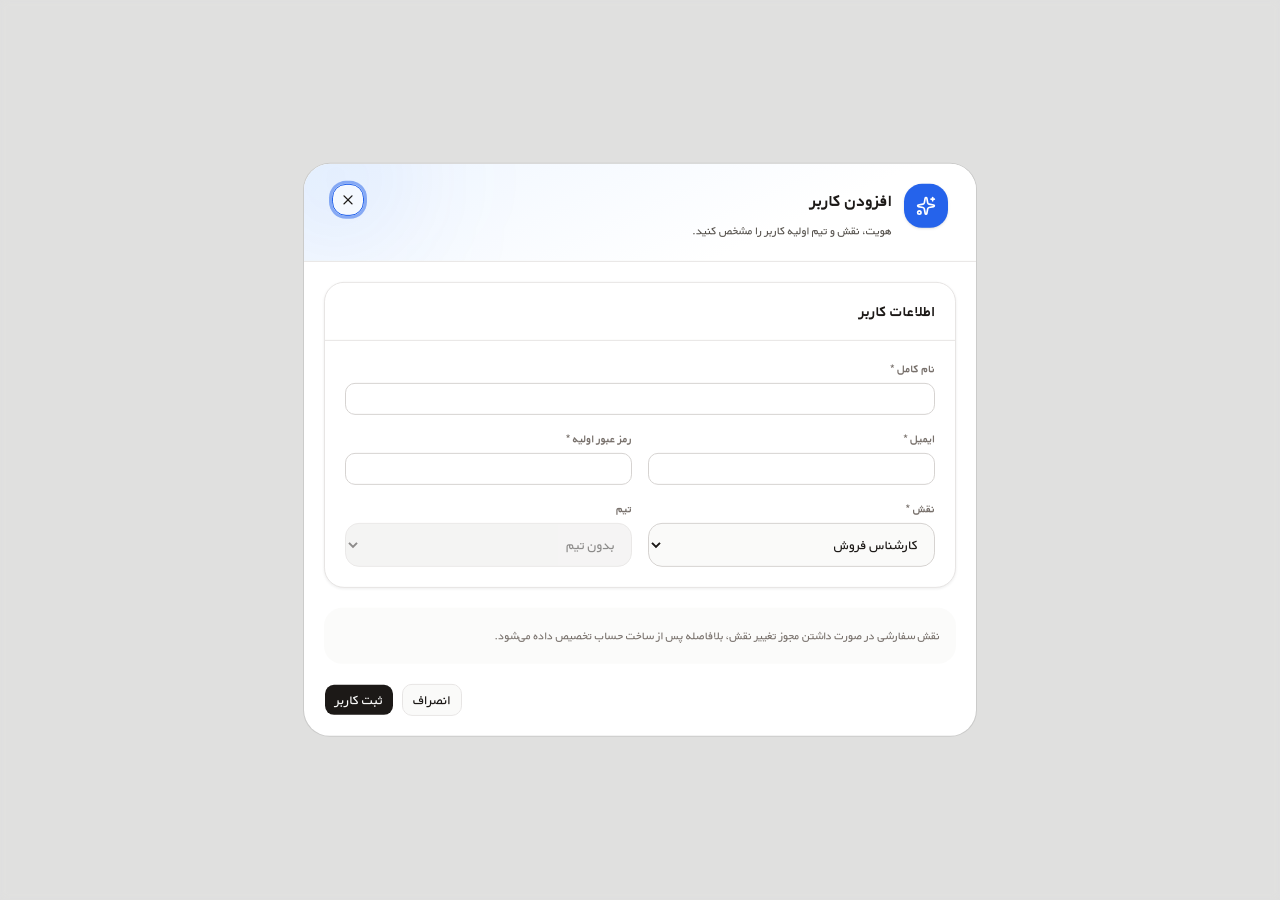
it: validates with Zod before submit and displays server email errors through RHF
This screenshot has width=1280, height=900.
Click the button "ثبت کاربر" at (359, 700), box [324,684,394,716]
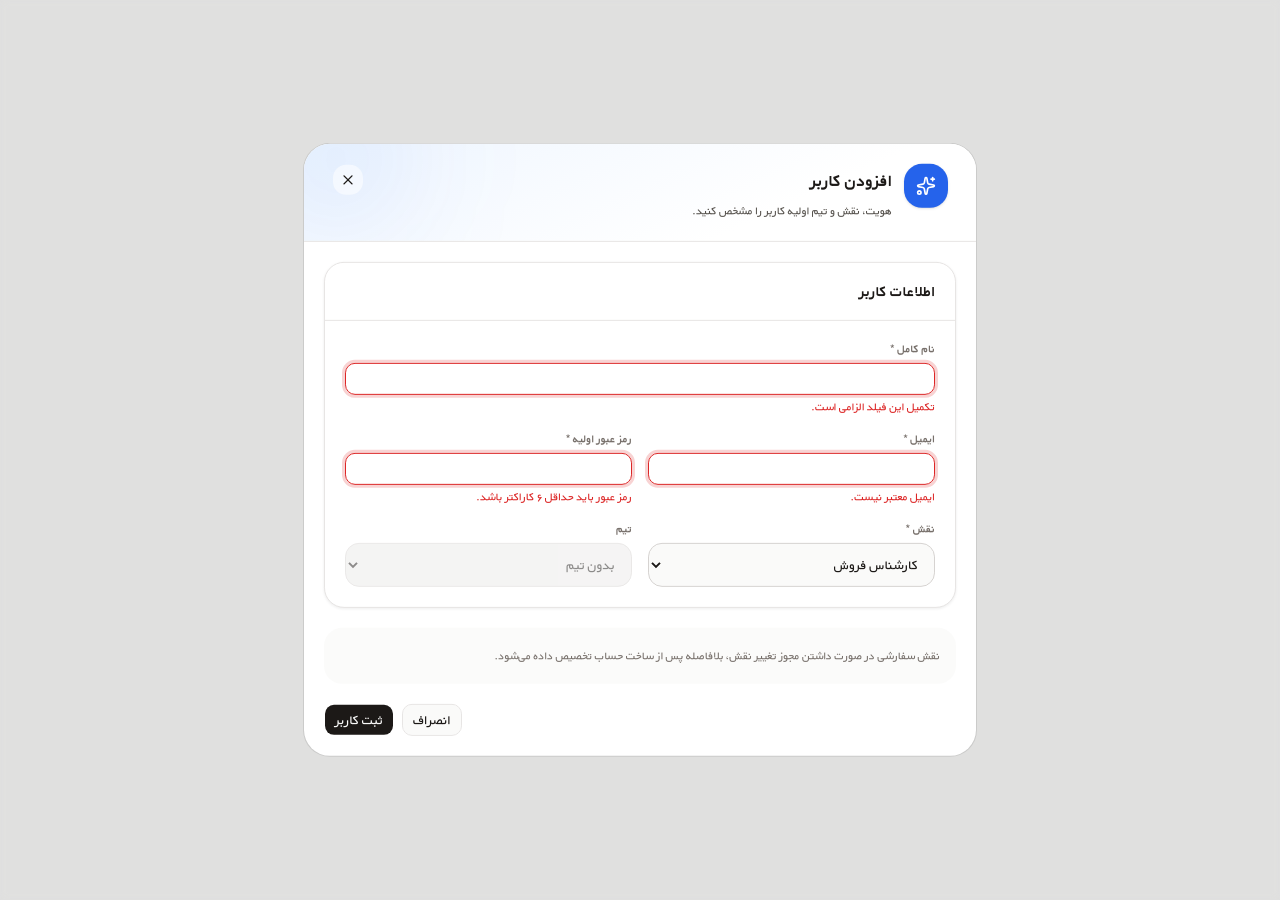
Now the text "تکمیل این فیلد الزامی است." is shown, box [811,398,935,415]
Type "کاربر آزمایشی" into the field labelled "نام کامل *" at (640, 379), box [345,363,935,395]
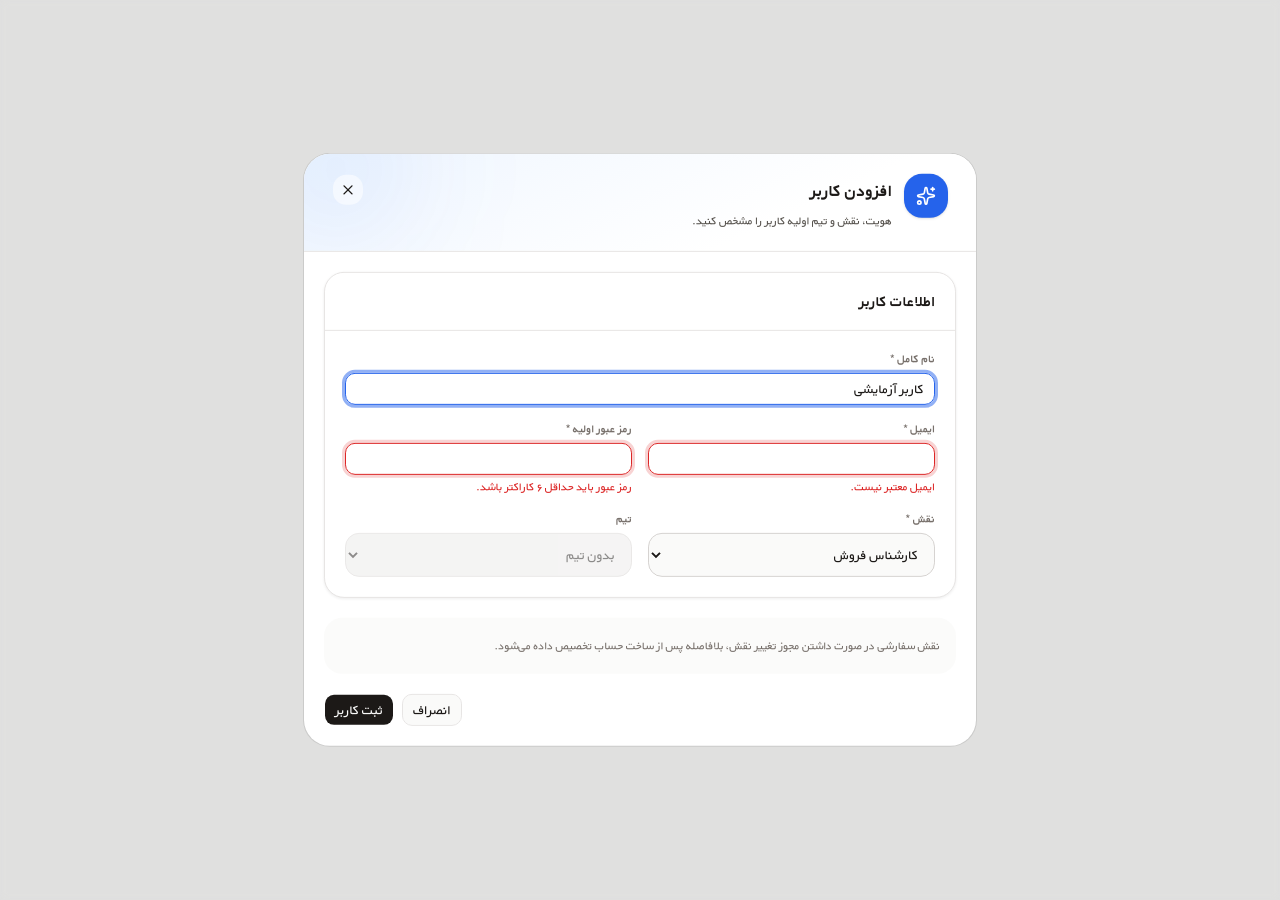
Type "test@example.test" into the field labelled "ایمیل *" at (792, 459), box [648,443,935,475]
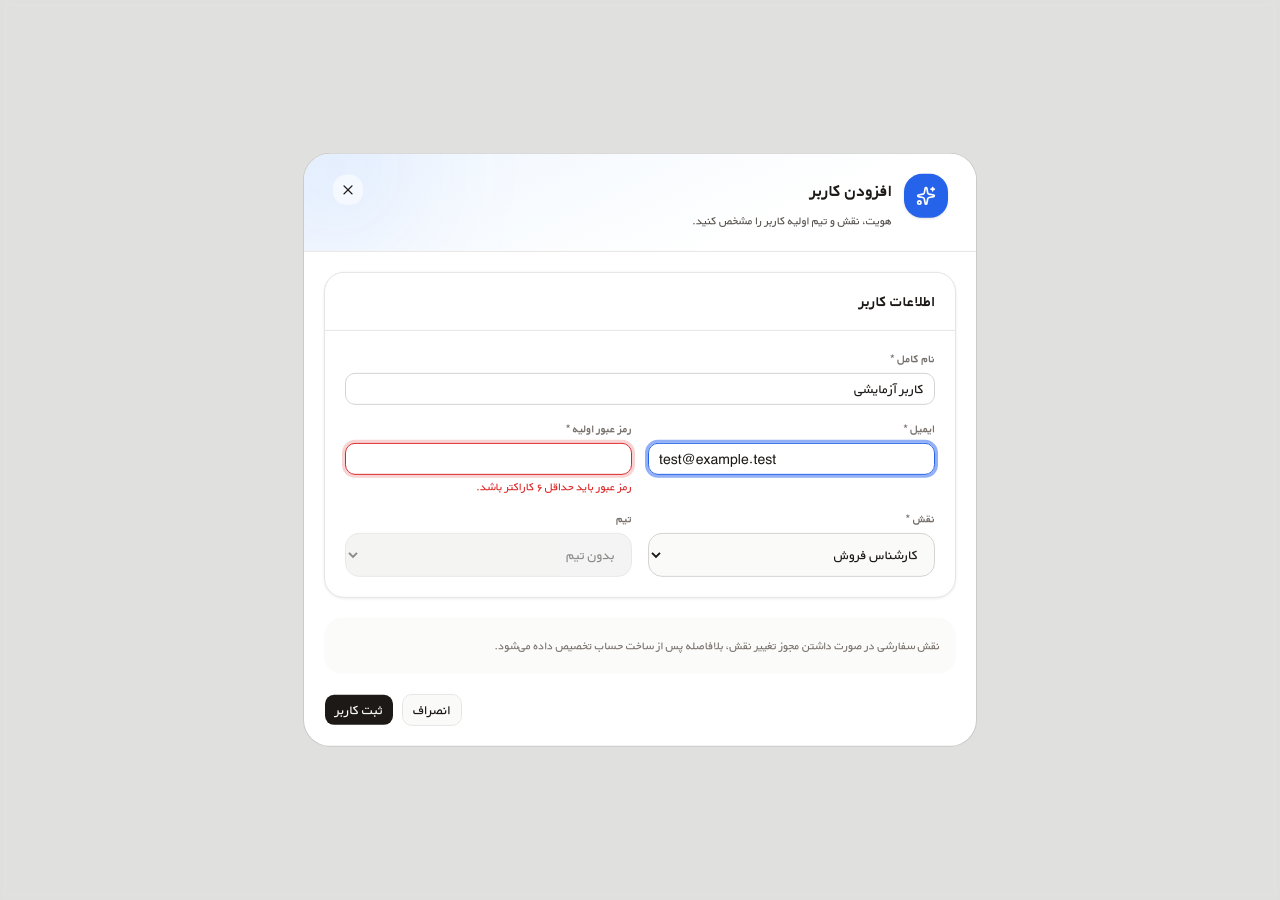
Type "test-secret" into the password field labelled "رمز عبور اولیه *" at (488, 459), box [345,443,632,475]
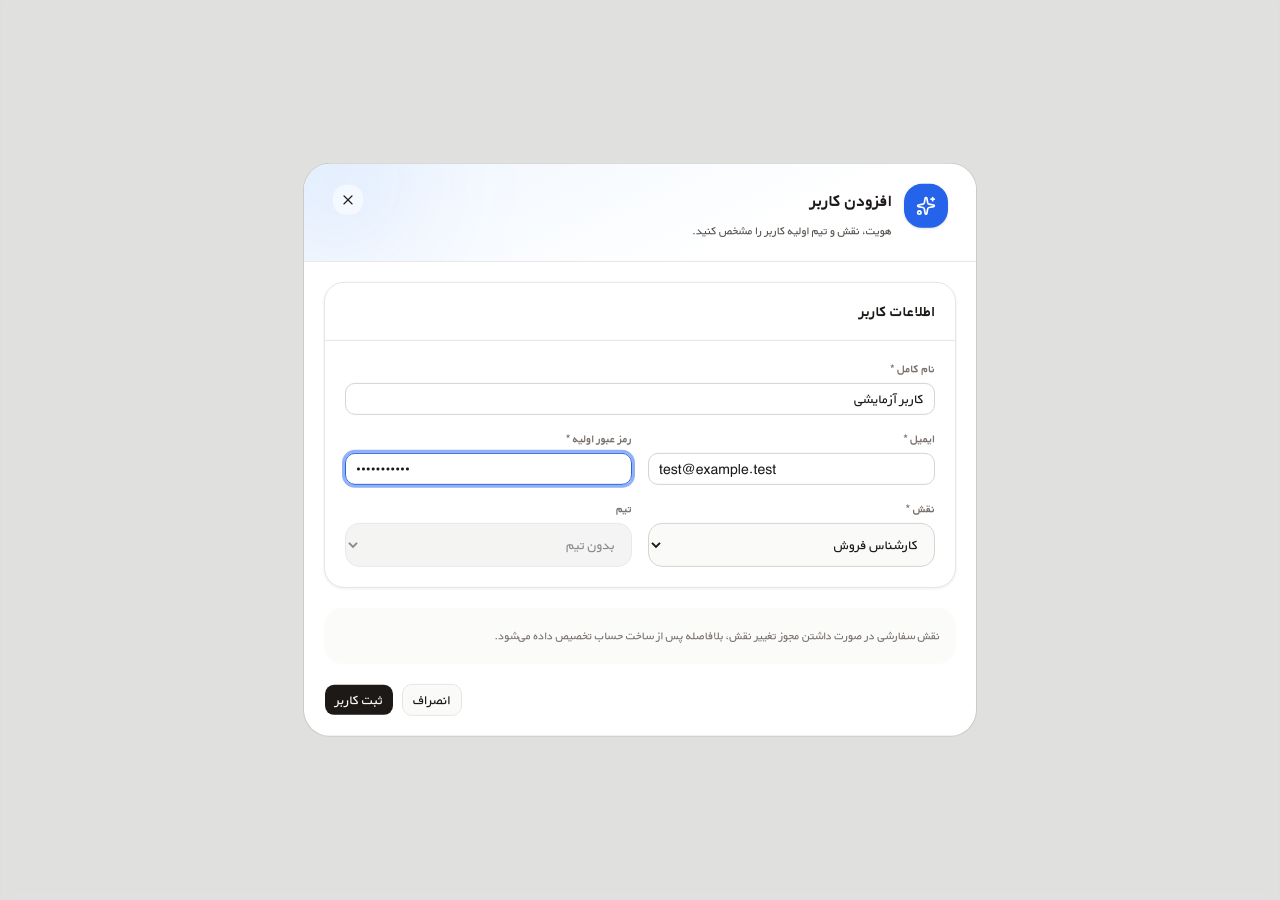
Click the button "ثبت کاربر" at (359, 700), box [324,684,394,716]
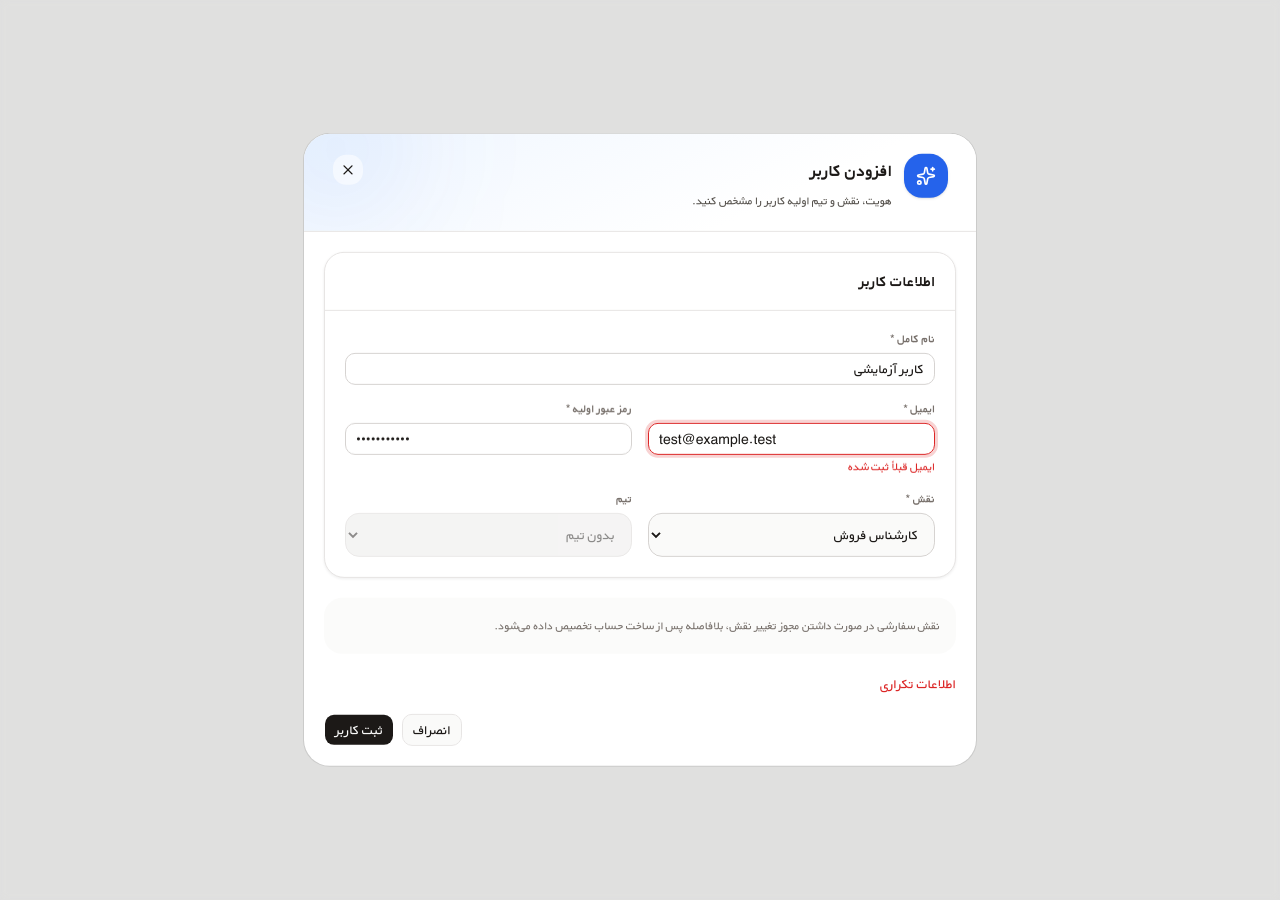
Now the text "ایمیل قبلاً ثبت شده" is shown, box [848,458,935,475]
